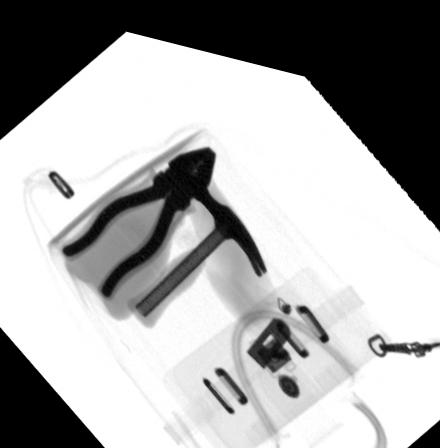Hammer: (127, 170, 268, 322)
Pliers: (56, 136, 218, 294)
